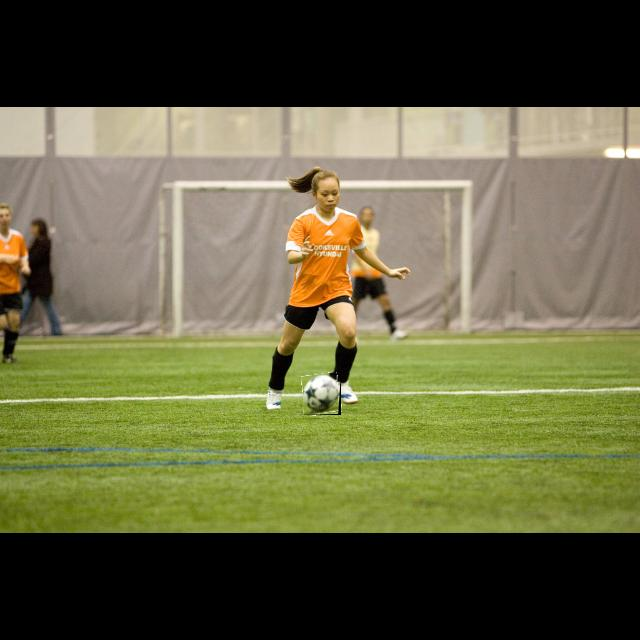Football: (303, 373, 341, 415)
